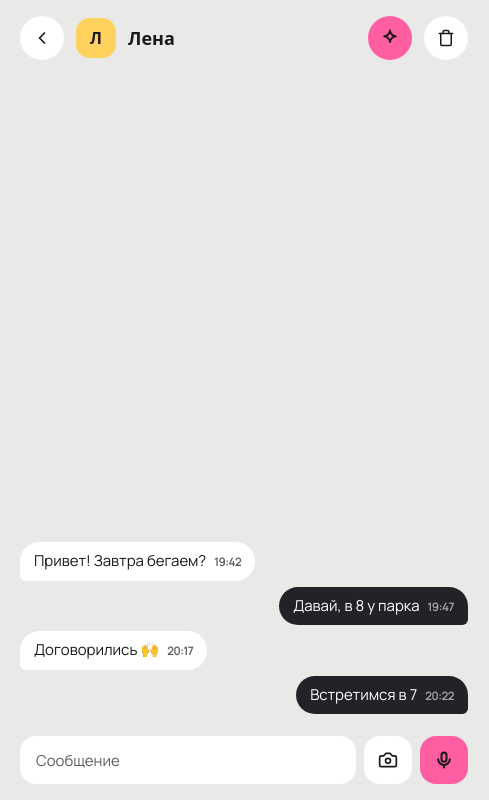
Test case: Chats (US-17) › edits an own message
The width and height of the screenshot is (489, 800).
Click the button "Встретимся в 7 20:22". click: (382,695)
box: x1=296 y1=676 x2=468 y2=714
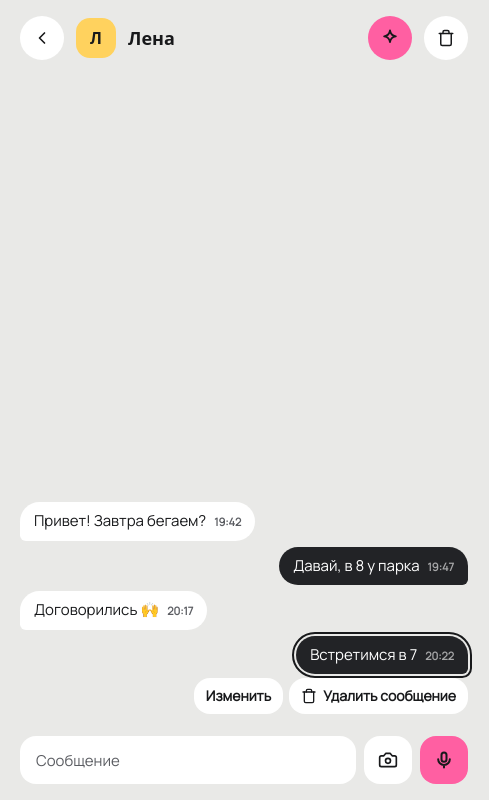
Click the button "Изменить". click: (238,696)
box: x1=194 y1=678 x2=283 y2=714
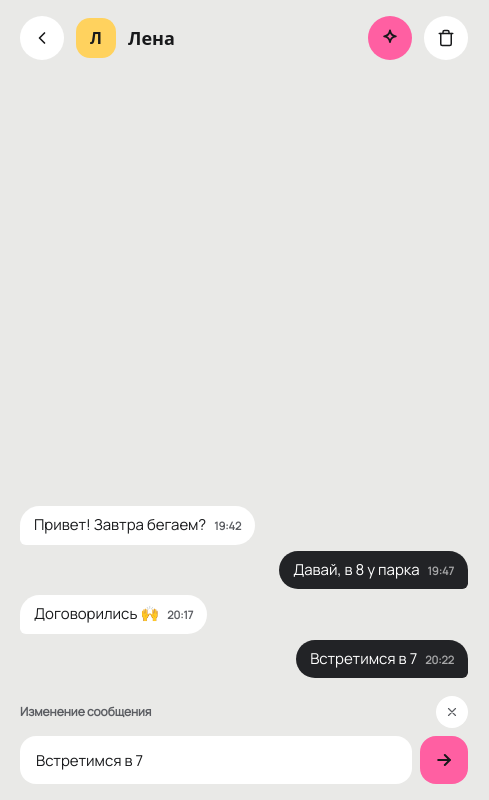
Check: the field named "Сообщение" holds "Встретимся в 7"
Replace the text in the field named "Сообщение" with "Встретимся в 8". click: (216,760)
box: x1=20 y1=736 x2=412 y2=784
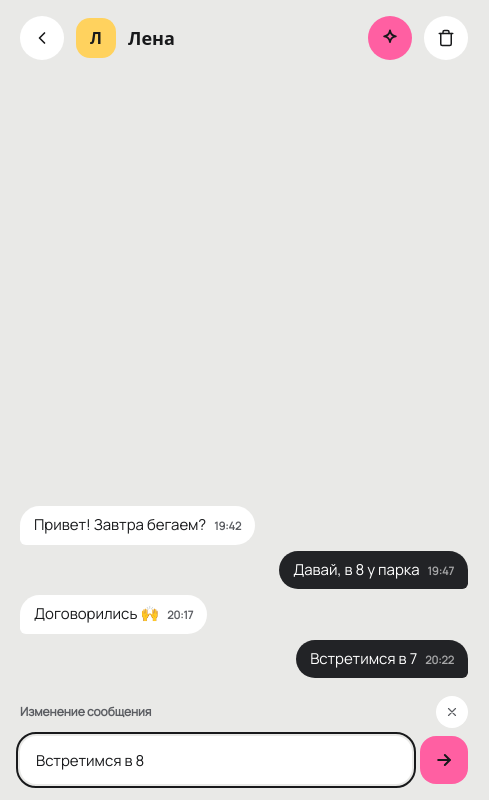
Click the button named "Сохранить". click: (444,760)
box: x1=420 y1=736 x2=468 y2=784
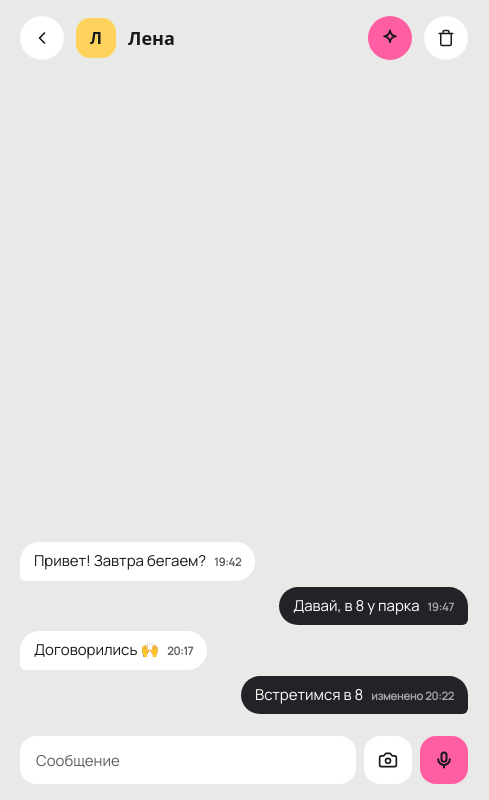
Check: the button "Встретимся в 8 изменено 20:22" is shown, box x1=241 y1=676 x2=468 y2=714
